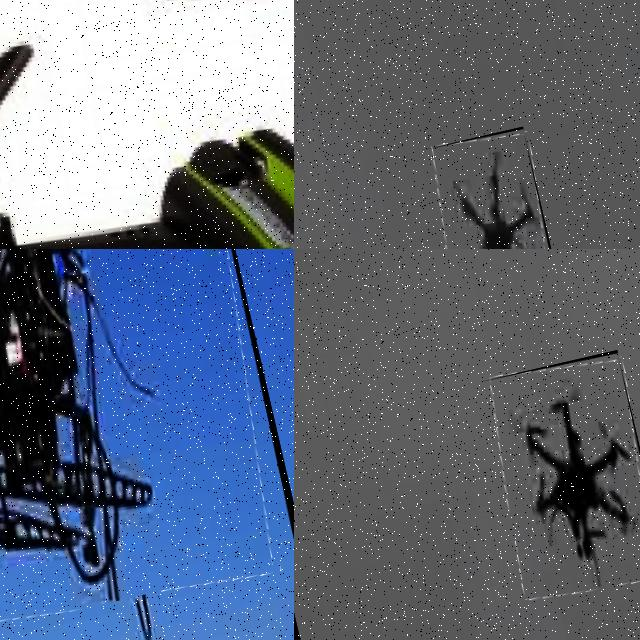drone: (0, 249, 294, 640), (0, 0, 294, 249), (478, 349, 640, 604), (422, 126, 564, 249)
